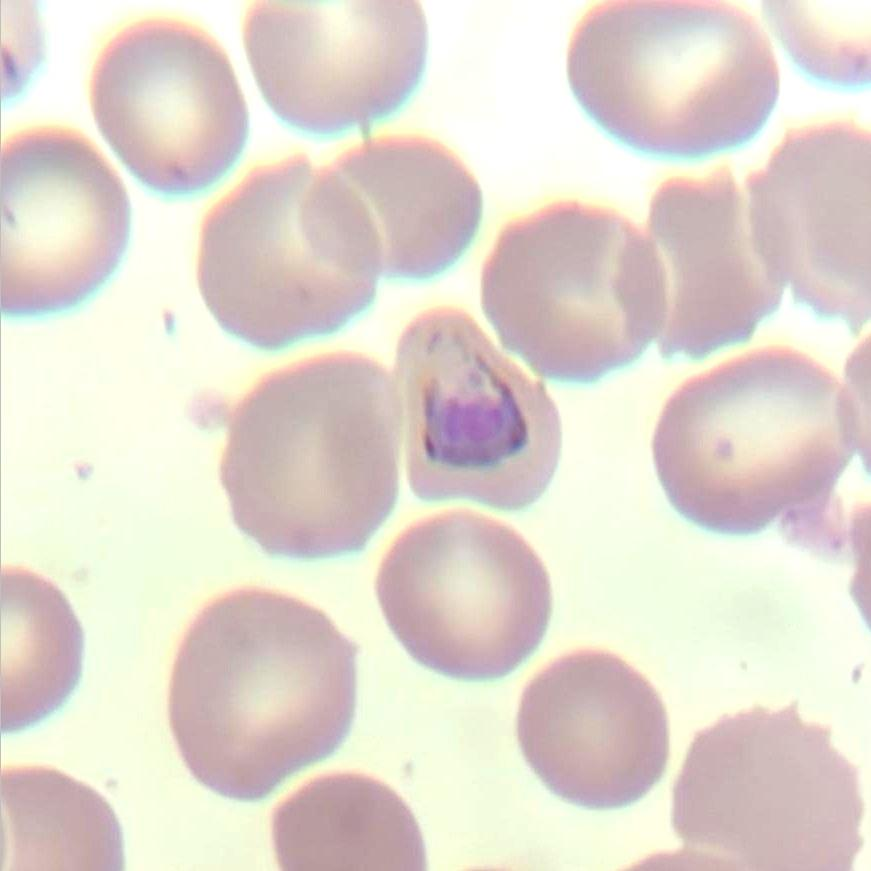Infected: (387, 309, 562, 512)
Uninfected: (167, 587, 356, 800), (218, 349, 406, 559), (650, 347, 857, 535), (195, 159, 377, 346), (565, 0, 780, 156), (668, 705, 866, 868), (482, 205, 661, 378), (380, 507, 546, 680), (88, 20, 248, 195), (637, 174, 788, 358), (742, 120, 871, 324), (298, 135, 482, 278), (512, 649, 672, 807), (0, 127, 129, 315), (243, 0, 426, 132), (273, 775, 428, 871)
